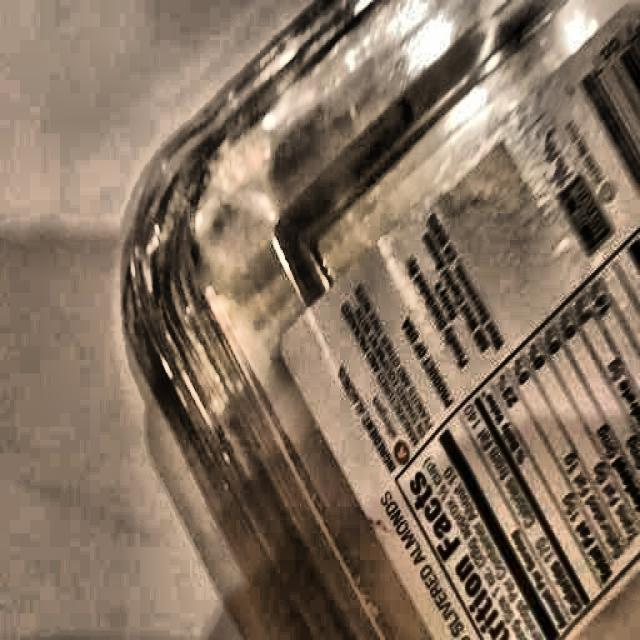plastic: (112, 5, 638, 640)
